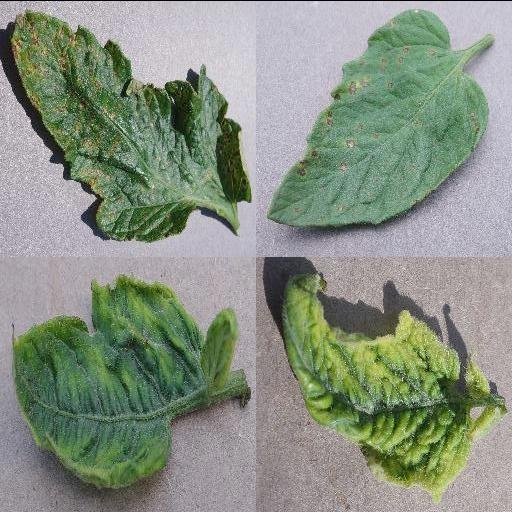Septoria: (13, 10, 253, 241), (266, 6, 490, 225)
Yellow Leaf Curl Virus: (9, 271, 241, 487), (280, 270, 490, 502)
